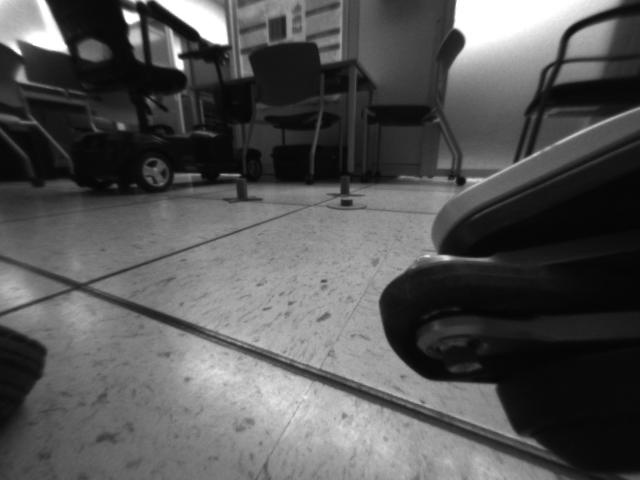X: (222, 179, 263, 204), (328, 175, 368, 199)
